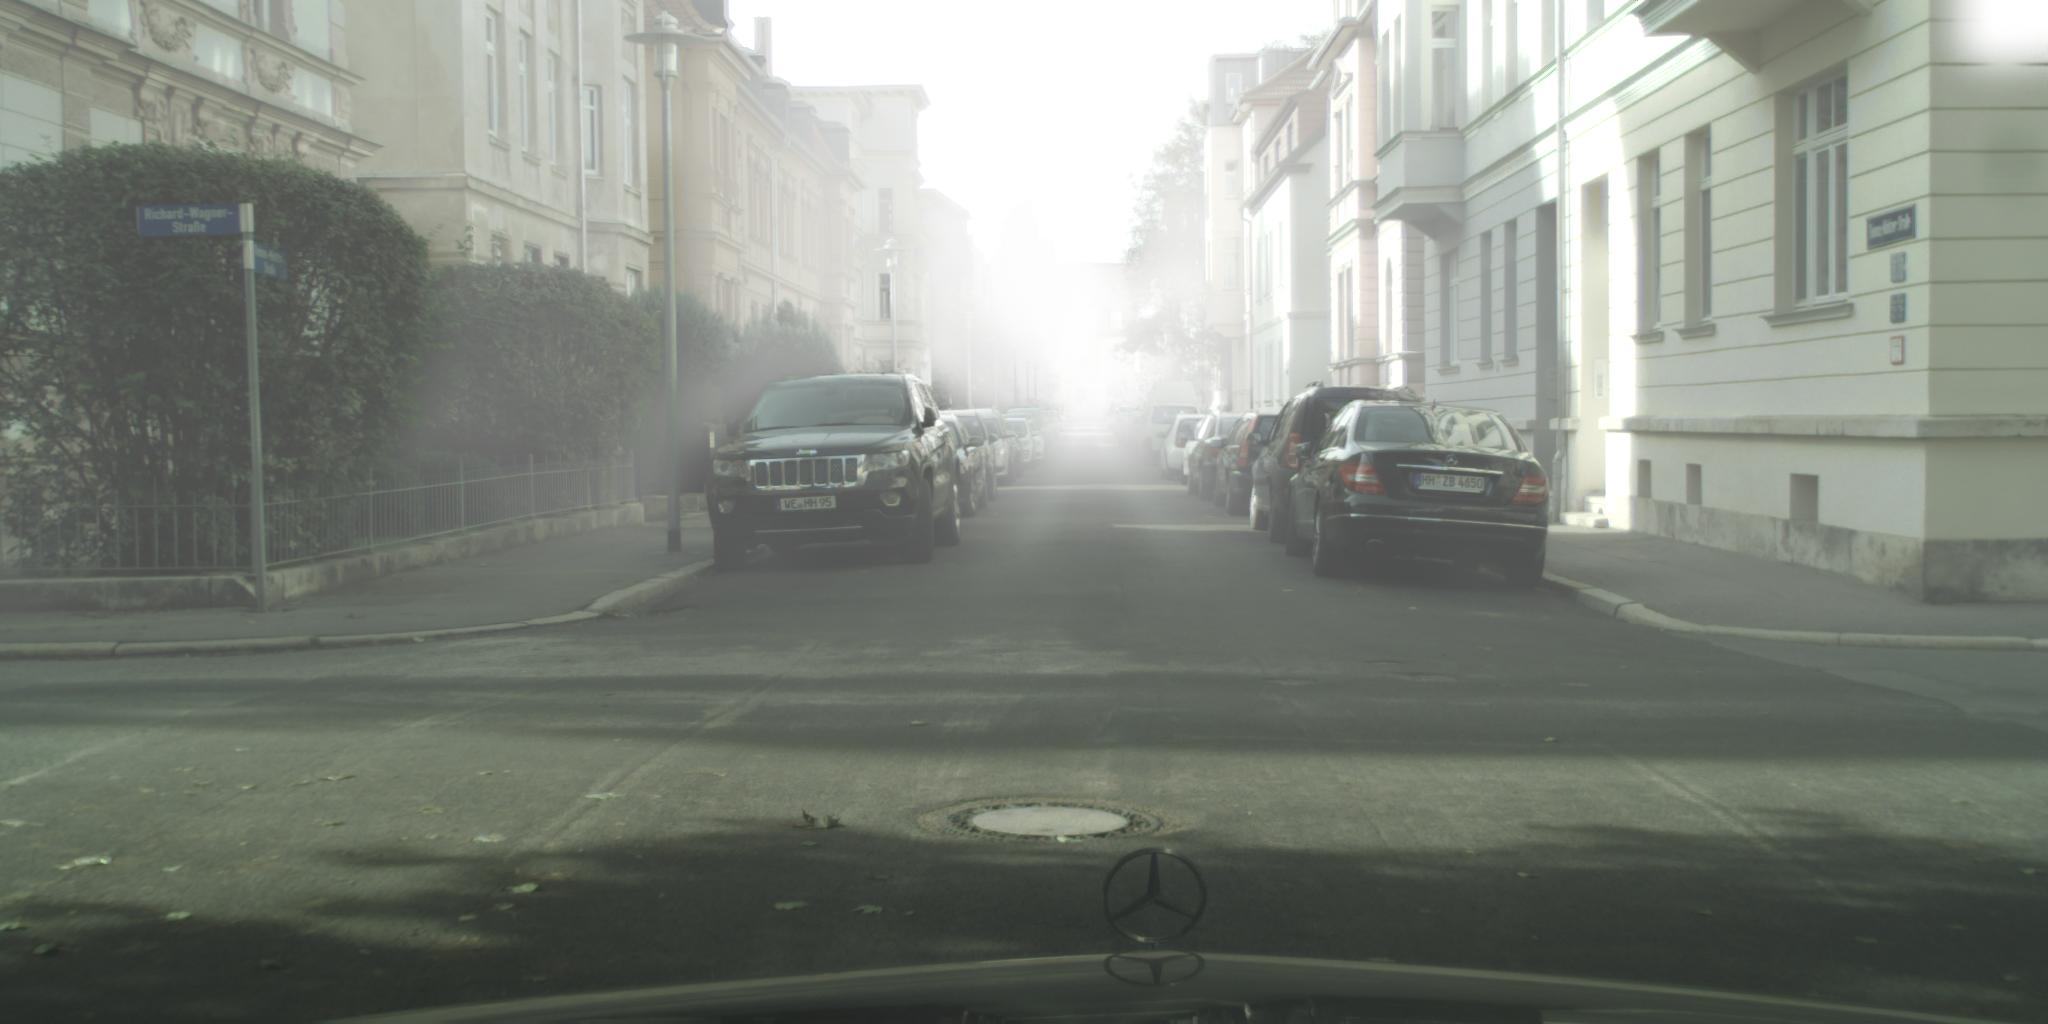car: (1285, 398, 1550, 596), (704, 374, 964, 572), (1246, 383, 1422, 546), (1212, 411, 1294, 519), (929, 415, 991, 520), (1187, 411, 1255, 503), (1130, 381, 1202, 465), (935, 411, 1000, 503), (1156, 411, 1229, 483), (957, 408, 1019, 488), (1181, 415, 1228, 488), (984, 418, 1027, 481), (1002, 419, 1041, 472), (1008, 413, 1055, 455), (1008, 410, 1061, 441), (1014, 421, 1048, 468), (1118, 413, 1147, 449), (1125, 414, 1148, 452), (1041, 408, 1067, 434), (1115, 410, 1138, 440), (1115, 415, 1135, 444), (1050, 404, 1074, 422), (1102, 406, 1126, 423), (1109, 409, 1125, 434)
